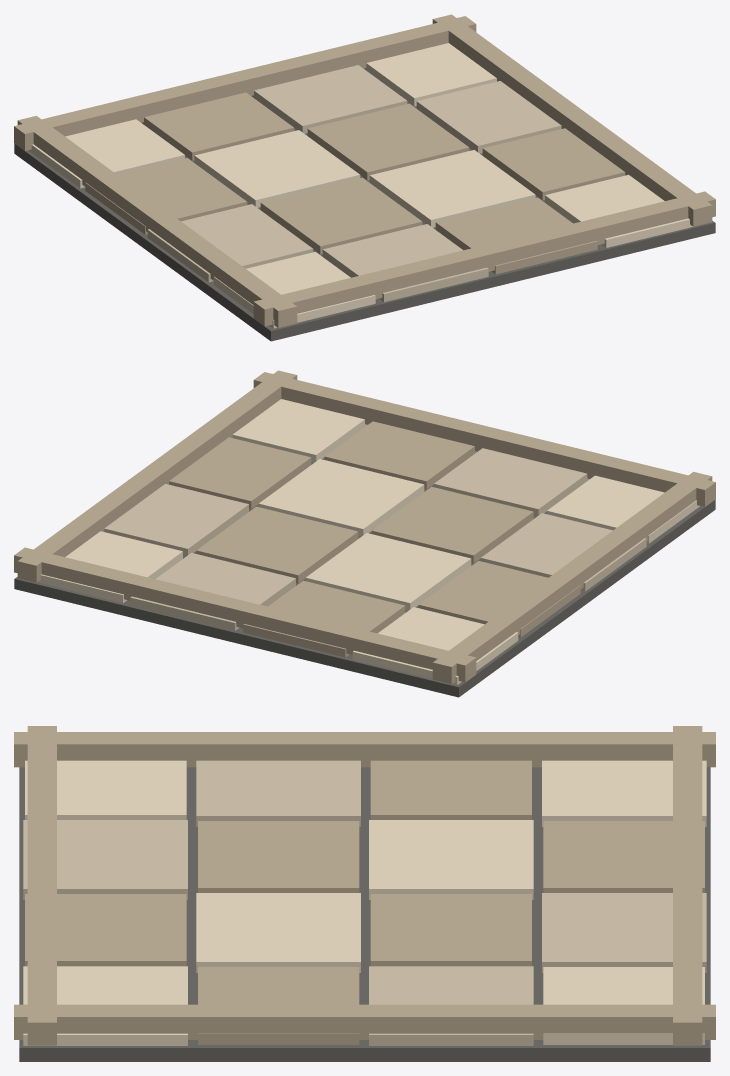
Rendered from vn_path_slab_2x2.glb.
3 views of the same model, one above another, from view 1: azimuth 30°, elevation 25°; view 2: azimuth 150°, elevation 25°; view 3: azimuth 270°, elevation 25° (orthographic). The views are drawn at different scales.
Visible parts, largest first — view 1: Bed, EdgeNZ_0, EdgePZ_0, EdgeNZ_1, EdgePZ_1, EdgePX_1, EdgeNX_1, EdgePX_0, EdgeNX_0; view 2: Bed, EdgePZ_0, EdgeNZ_0, EdgeNZ_1, EdgePZ_1, EdgeNX_0, EdgePX_0, EdgePX_1, EdgeNX_1; view 3: Bed, EdgePX_0, EdgeNX_0, EdgePX_1, EdgeNX_1, EdgeNZ_1, EdgePZ_1, EdgeNZ_0, EdgePZ_0.
Boxes of the visible parts, x1,y1,x2,y2 form: Bed: [14, 43, 715, 341]; EdgeNZ_0: [14, 69, 259, 150]; EdgePZ_0: [253, 245, 498, 326]; EdgeNZ_1: [235, 16, 476, 95]; EdgePZ_1: [471, 191, 715, 269]; EdgePX_1: [558, 107, 712, 226]; EdgeNX_1: [143, 210, 297, 327]; EdgePX_0: [432, 14, 586, 128]; EdgeNX_0: [17, 115, 171, 231]; Bed: [14, 399, 715, 697]; EdgePZ_0: [470, 425, 715, 506]; EdgeNZ_0: [231, 601, 476, 682]; EdgeNZ_1: [14, 547, 258, 627]; EdgePZ_1: [253, 372, 489, 451]; EdgeNX_0: [432, 566, 586, 683]; EdgePX_0: [17, 462, 171, 582]; EdgePX_1: [143, 370, 297, 479]; EdgeNX_1: [558, 471, 712, 586]; Bed: [19, 760, 710, 1061]; EdgePX_0: [351, 1004, 715, 1039]; EdgeNX_0: [351, 732, 715, 767]; EdgePX_1: [14, 1004, 378, 1039]; EdgeNX_1: [14, 732, 378, 767]; EdgeNZ_1: [673, 880, 702, 1045]; EdgePZ_1: [27, 880, 56, 1045]; EdgeNZ_0: [673, 726, 702, 880]; EdgePZ_0: [27, 726, 56, 880].
Bounding box in the file's own units: 1.39 × 0.09 × 1.39.
